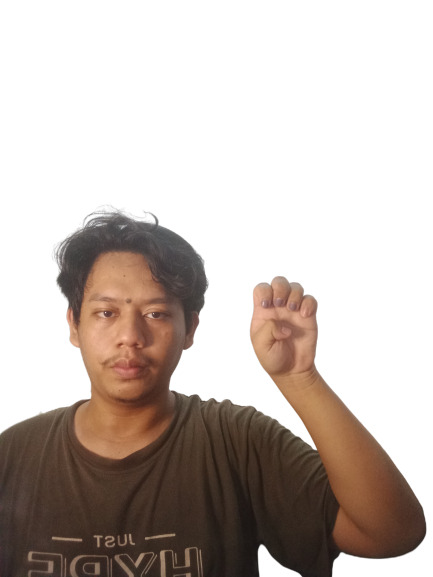E: (246, 272, 332, 376)
